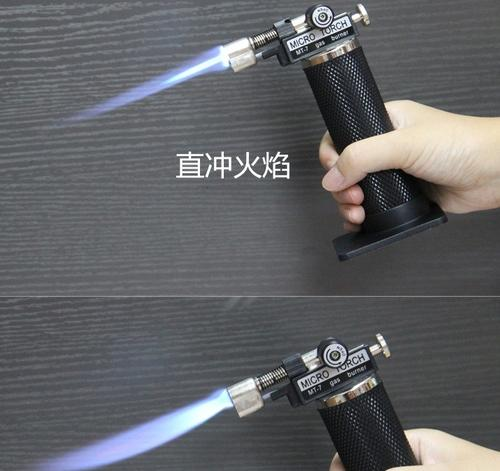fire: (44, 379, 245, 462), (70, 52, 231, 108)
